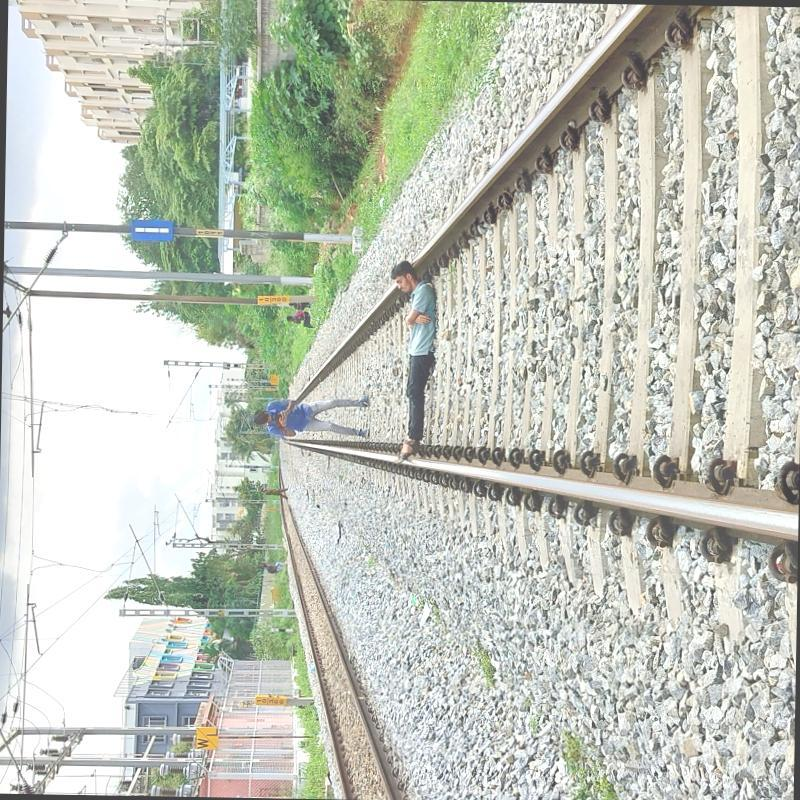sleeping: (384, 257, 436, 464)
